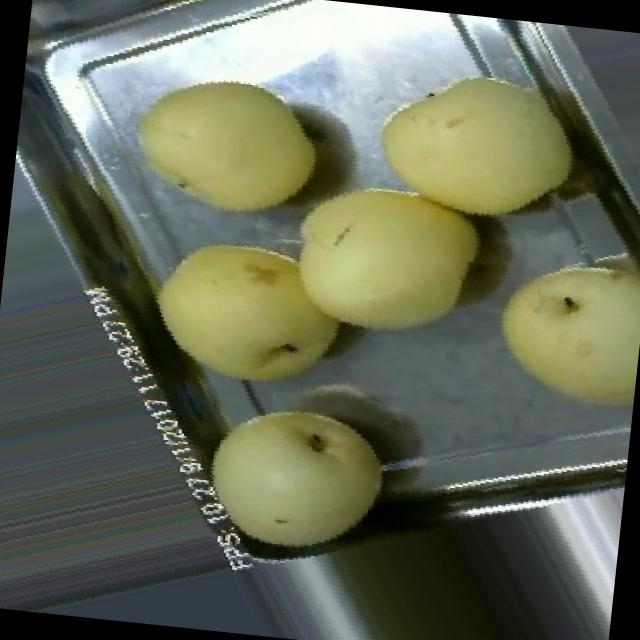Fruit: (353, 38, 599, 249), (126, 207, 372, 418), (258, 154, 506, 363), (175, 372, 408, 574), (110, 48, 342, 244), (470, 223, 640, 433)
